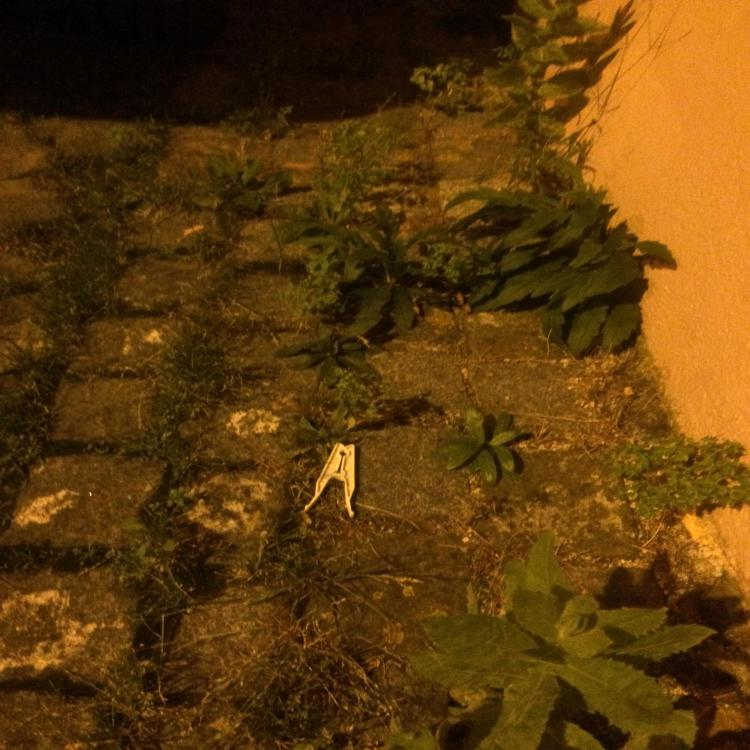Other plastic wrapper: (306, 442, 354, 519)
